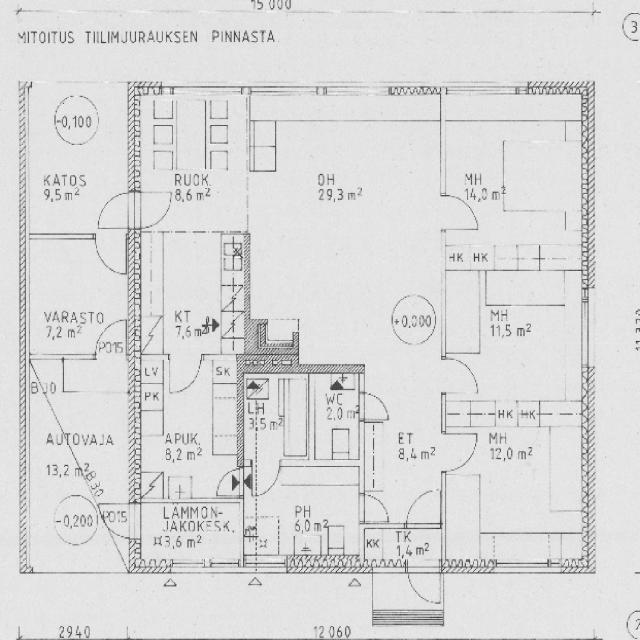door: (129, 186, 177, 232), (92, 186, 138, 233), (438, 189, 483, 234), (440, 351, 482, 397), (92, 230, 132, 277), (404, 485, 443, 530), (442, 431, 479, 474), (167, 352, 203, 396), (406, 564, 442, 605), (357, 387, 395, 423), (358, 489, 392, 525), (251, 461, 282, 497), (214, 467, 243, 498)
window: (577, 288, 597, 372), (444, 80, 527, 98), (247, 81, 331, 98), (492, 557, 555, 578), (325, 81, 397, 98), (250, 555, 288, 574), (171, 557, 210, 573), (129, 500, 143, 542), (205, 556, 240, 571)
zone: (442, 262, 588, 414), (22, 77, 133, 233), (27, 353, 134, 514), (474, 413, 586, 564), (135, 89, 251, 230), (136, 354, 241, 498), (137, 229, 244, 352), (27, 234, 130, 357), (463, 128, 589, 222), (247, 464, 363, 558), (135, 498, 243, 564), (242, 372, 312, 463), (310, 371, 361, 463), (92, 186, 138, 234), (131, 186, 176, 232), (362, 525, 404, 569), (242, 534, 258, 556)
